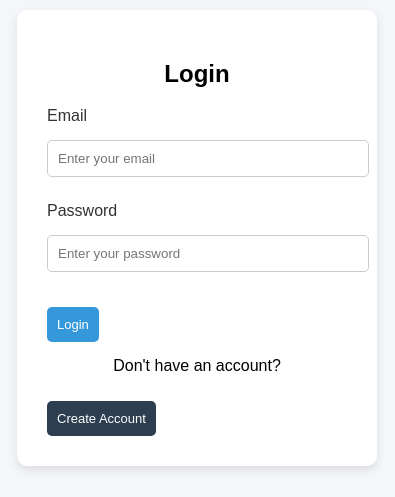
Test: Login Component › shows validation error for empty password
Type "test@example.com" into the field labelled "Email". click: (208, 159)
box: [47,140,369,177]
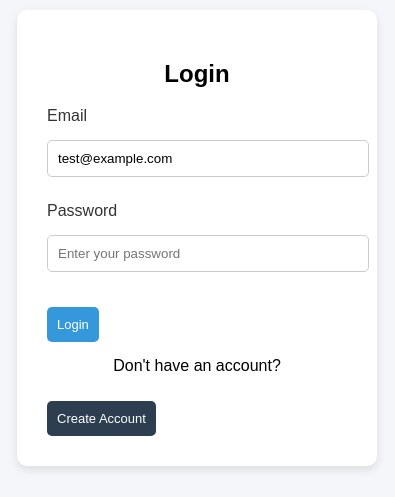
Click the button "Login". click: (73, 325)
box: [47,307,99,342]
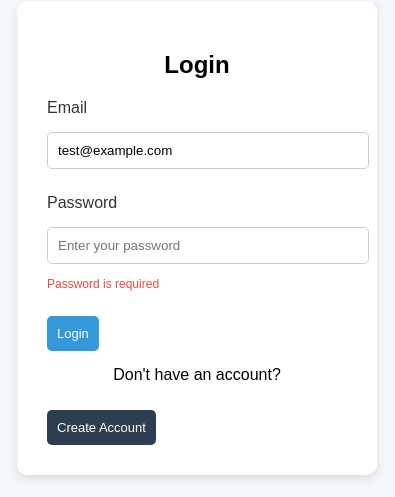
Now the text "Password is required" is shown, box [47,277,159,291]
